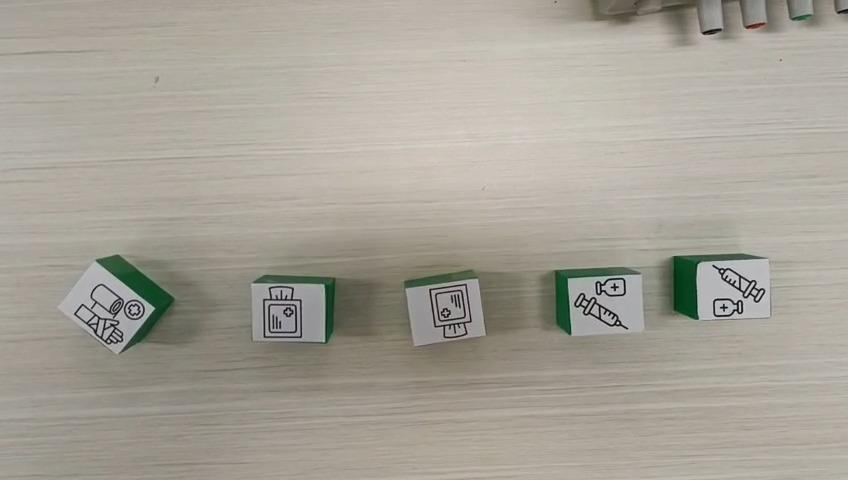Bandages: (54, 254, 174, 355)
Gauze: (402, 267, 487, 346), (250, 273, 336, 344)
antiseptic cream: (671, 252, 772, 321), (554, 266, 646, 337)
